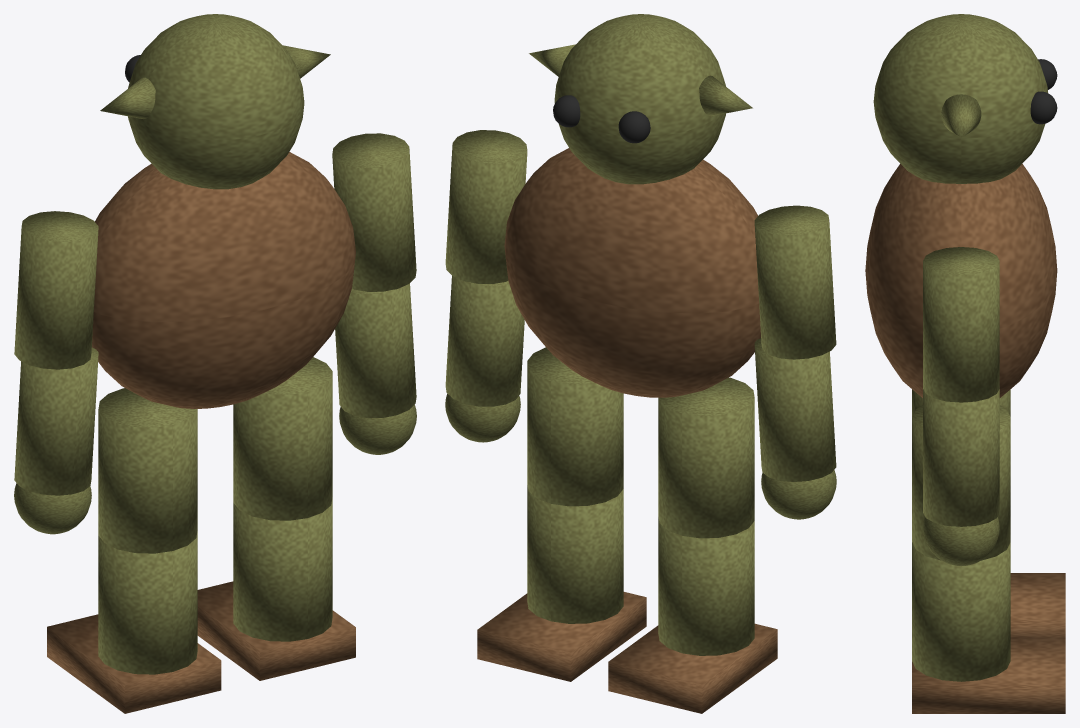
Rendered from biped-humanoid-proof.glb.
3 views of the same model, side by side, from view 1: azimuth 30°, elevation 25°; view 2: azimuth 150°, elevation 25°; view 3: azimuth 270°, elevation 25° (orthographic). The views are drawn at different scales.
Parts seen in each view (by area): view 1: Torso, Head, Thigh, Thigh.001, Shin.001, Shin, UpperArm.001, UpperArm, Forearm.001, Forearm, Foot, Foot.001 (+4 smaller); view 2: Torso, Head, Thigh, Thigh.001, Shin.001, Shin, UpperArm.001, UpperArm, Forearm.001, Forearm, Foot, Foot.001 (+6 smaller); view 3: Torso, Head, Shin.001, UpperArm, Forearm, Foot.001, Foot, Thigh.001, Hand, Ear.001, Eye.001, Thigh (+1 smaller).
Part boxes in pixels (<box>): Torso: <box>92,152,355,408</box>; Head: <box>128,14,304,189</box>; Thigh: <box>98,388,197,553</box>; Thigh.001: <box>233,357,332,520</box>; Shin.001: <box>233,497,332,641</box>; Shin: <box>98,531,197,674</box>; UpperArm.001: <box>14,211,98,369</box>; UpperArm: <box>332,133,416,291</box>; Forearm.001: <box>14,347,98,495</box>; Forearm: <box>335,283,416,418</box>; Foot: <box>47,614,221,713</box>; Foot.001: <box>197,581,355,680</box>; Torso: <box>504,148,760,397</box>; Head: <box>554,14,725,184</box>; Thigh: <box>658,377,754,538</box>; Thigh.001: <box>527,347,623,506</box>; Shin.001: <box>527,485,623,623</box>; Shin: <box>658,517,754,655</box>; UpperArm.001: <box>754,205,836,359</box>; UpperArm: <box>445,130,527,283</box>; Forearm.001: <box>754,338,836,481</box>; Forearm: <box>445,276,524,406</box>; Foot: <box>608,623,777,713</box>; Foot.001: <box>477,592,646,681</box>; Torso: <box>865,163,1057,397</box>; Head: <box>873,14,1047,183</box>; Shin.001: <box>912,542,1010,681</box>; UpperArm: <box>923,247,999,402</box>; Forearm: <box>923,389,999,526</box>; Foot.001: <box>912,637,1065,713</box>; Foot: <box>1010,573,1065,637</box>; Thigh.001: <box>912,405,1010,560</box>; Hand: <box>923,517,999,566</box>; Ear.001: <box>941,94,981,137</box>; Eye.001: <box>1030,91,1057,124</box>; Thigh: <box>912,389,1010,416</box>.
Size of the model in its own units: 0.6367 by 1 by 0.2852.
Materials: 3 (2 with a texture image).
